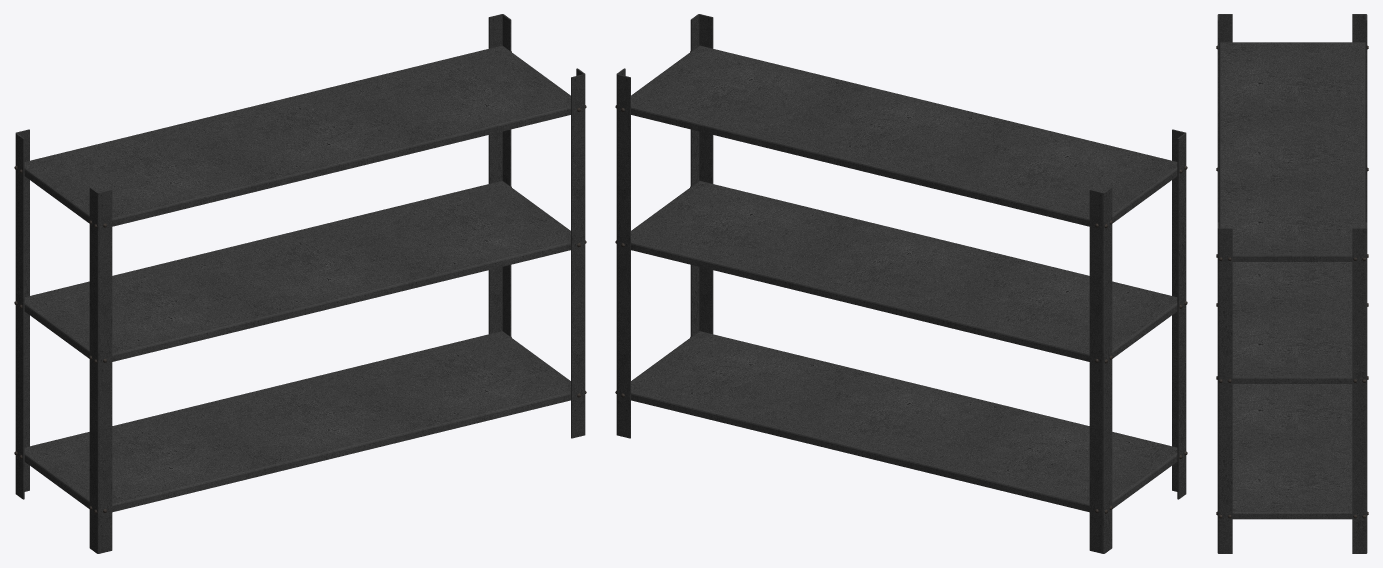
The model's file is metal_shelf_1.glb.
3 views of the same model, side by side, from view 1: azimuth 30°, elevation 25°; view 2: azimuth 150°, elevation 25°; view 3: azimuth 270°, elevation 25° (orthographic). The views are drawn at different scales.
Visible parts, largest first — view 1: metal_shelf_1; view 2: metal_shelf_1; view 3: metal_shelf_1.
Boxes of the visible parts, box(x1,y1,x2,y2) form: metal_shelf_1: box(14, 14, 586, 553); metal_shelf_1: box(615, 14, 1187, 553); metal_shelf_1: box(1216, 14, 1368, 553).
Size of the model in its own units: 3.42 by 2.4 by 1.02.
Materials: 2 (2 with a texture image).
